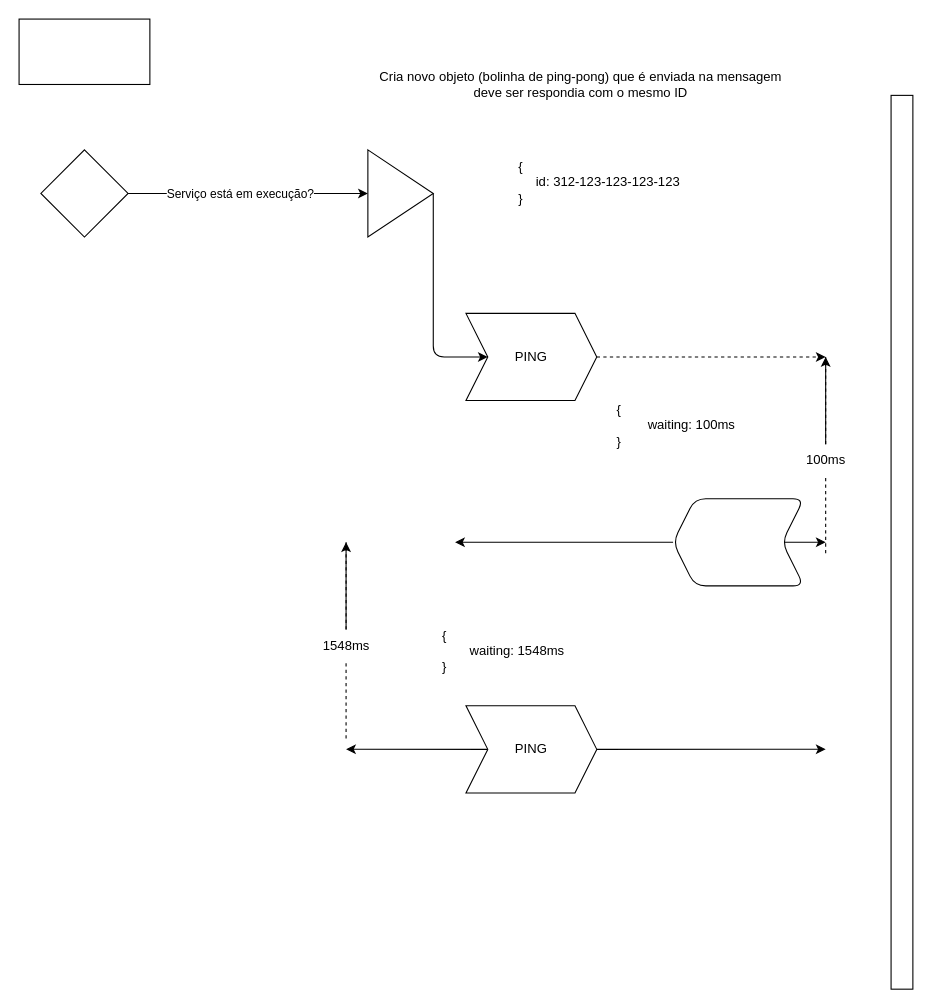
Image size: 932x1008. Some labels were removed from this diagram. The shapes that lost their labels are listed below. From the top down, each one's centre as x and y in pixels, then its label:
At point (84, 51): "Ping Pong".
At point (738, 542): "PONG".
